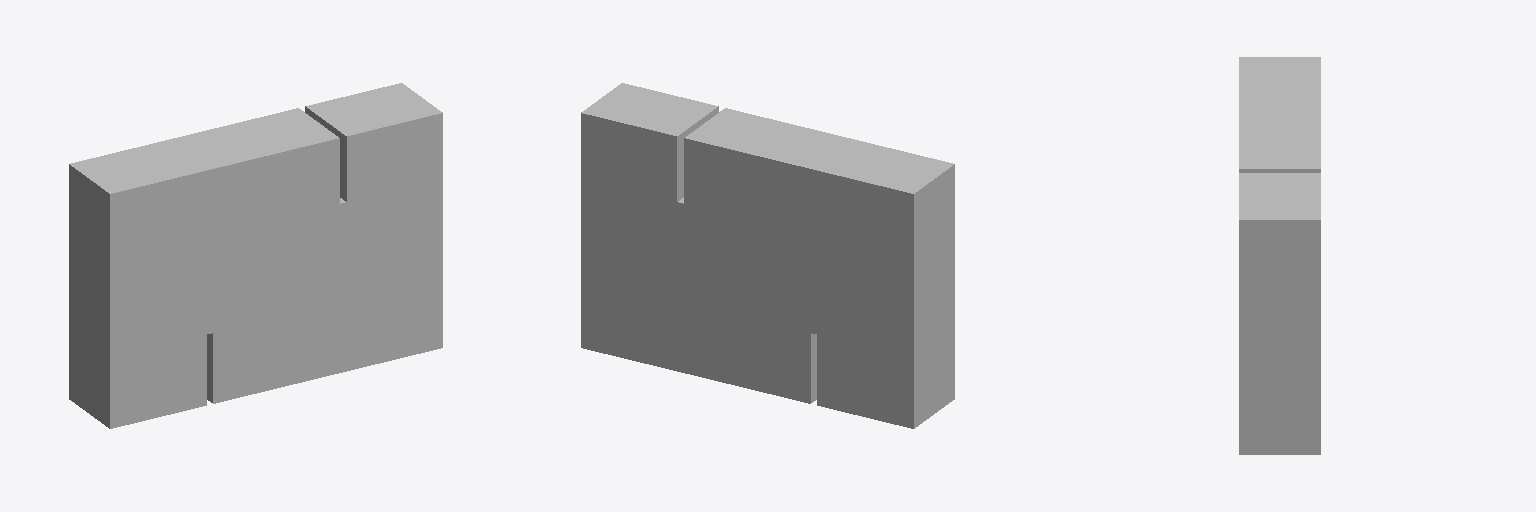
File: sections.obj
3 renders of one model, left to right at view 1: azimuth 30°, elevation 25°; view 2: azimuth 150°, elevation 25°; view 3: azimuth 270°, elevation 25°, orthographic.
Visible parts, largest first — view 1: Plane.001_Plane.007, Plane.014_Plane.020, Plane.003_Plane.009, Plane.004_Plane.010, Plane.013_Plane.019; view 2: Plane.002_Plane.008, Plane.014_Plane.020, Plane.003_Plane.009, Plane.004_Plane.010, Plane.013_Plane.019; view 3: Plane.005_Plane.011, Plane.003_Plane.009, Plane.004_Plane.010.
Part boxes in pixels (bbox=[...]): Plane.001_Plane.007: bbox=[110, 113, 442, 428]; Plane.014_Plane.020: bbox=[69, 164, 109, 428]; Plane.003_Plane.009: bbox=[70, 108, 338, 193]; Plane.004_Plane.010: bbox=[306, 83, 442, 135]; Plane.013_Plane.019: bbox=[305, 106, 346, 201]; Plane.002_Plane.008: bbox=[581, 113, 913, 428]; Plane.014_Plane.020: bbox=[914, 164, 954, 428]; Plane.003_Plane.009: bbox=[685, 108, 953, 193]; Plane.004_Plane.010: bbox=[581, 83, 717, 135]; Plane.013_Plane.019: bbox=[677, 106, 718, 201]; Plane.005_Plane.011: bbox=[1239, 220, 1320, 454]; Plane.003_Plane.009: bbox=[1239, 57, 1320, 168]; Plane.004_Plane.010: bbox=[1239, 173, 1320, 219].
Size of the model in its own units: 140 by 94.45 by 30.